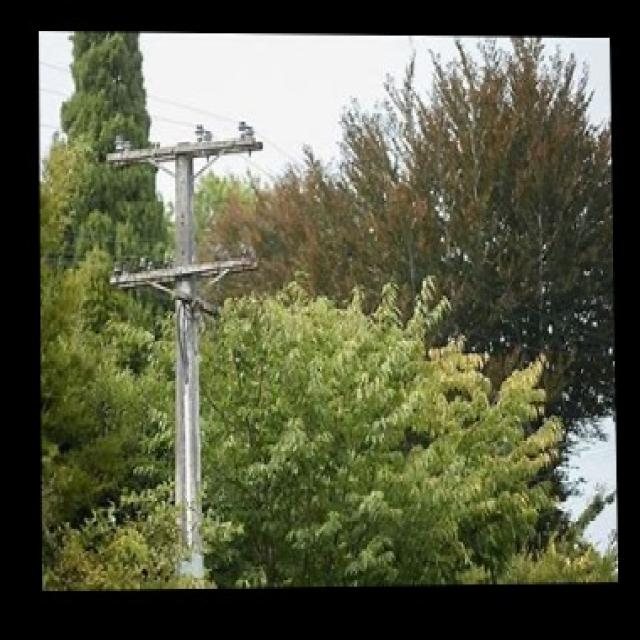utility poles: (101, 122, 265, 583)
